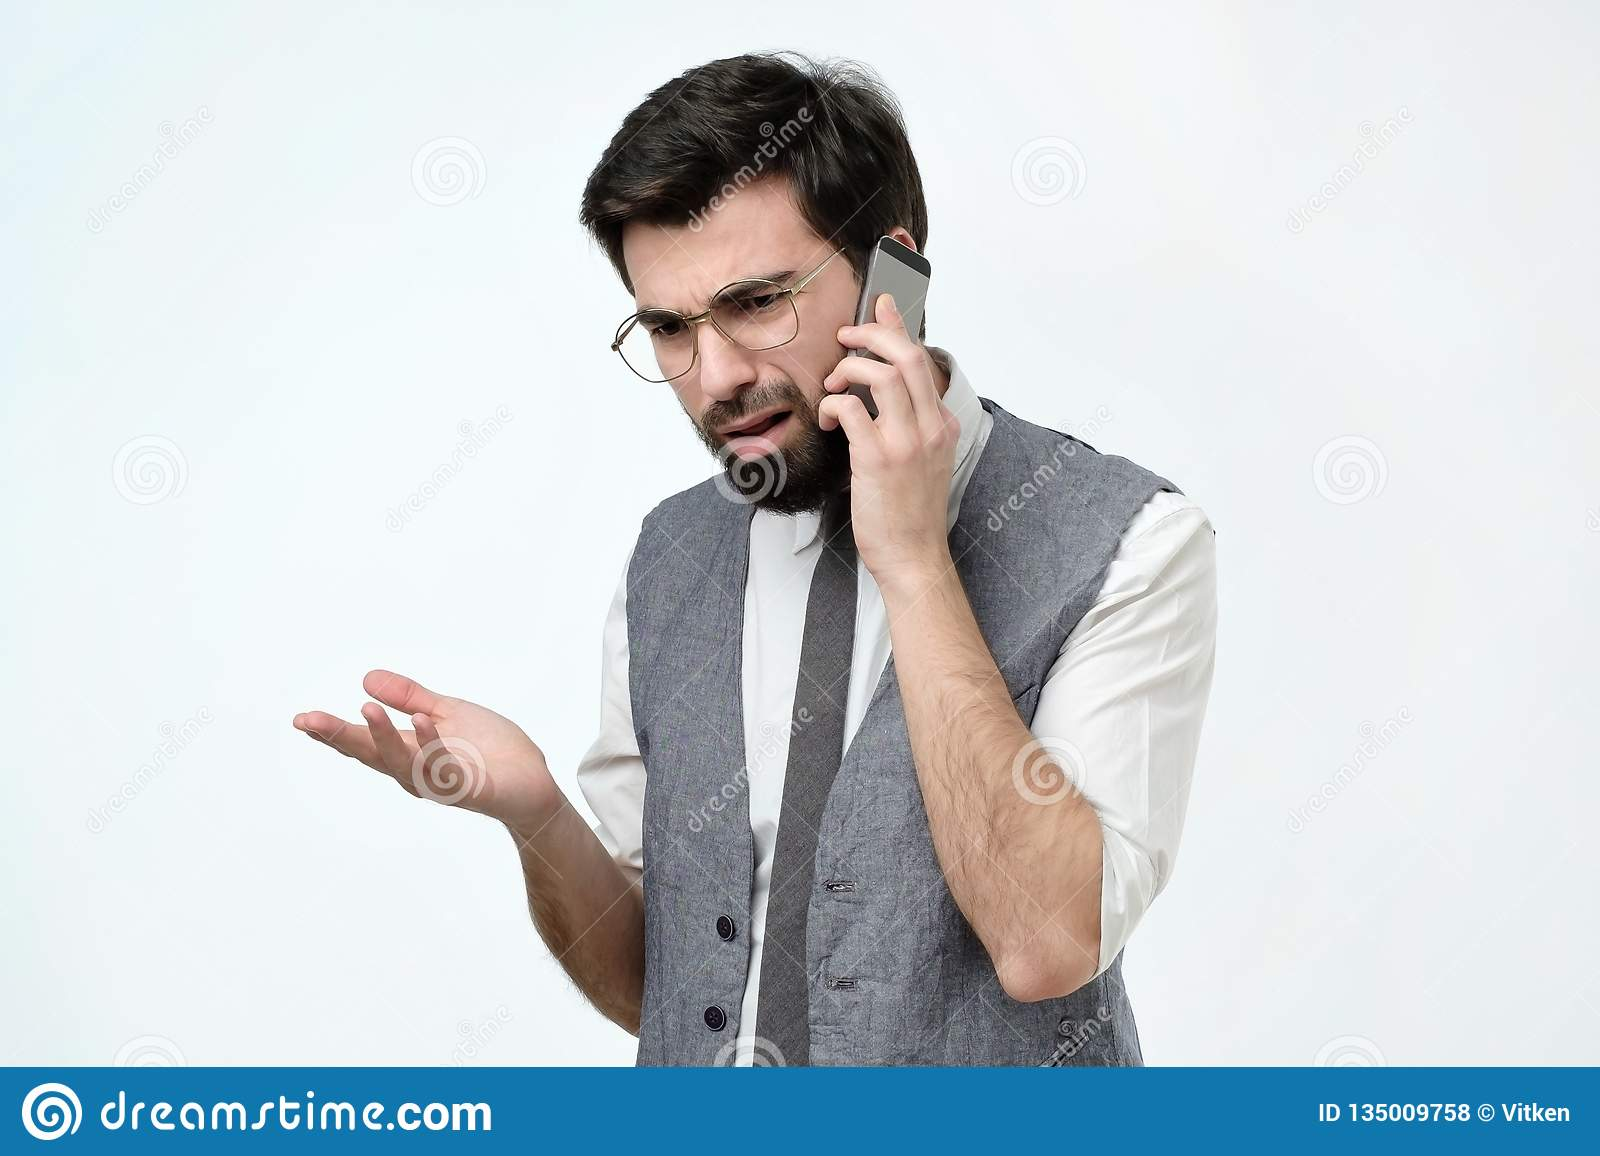phone: (835, 238, 937, 442)
talk: (634, 233, 960, 603)
